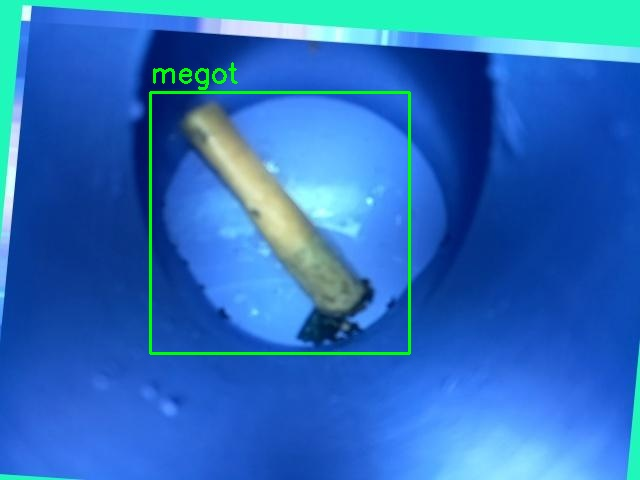megot: (150, 92, 409, 353)
